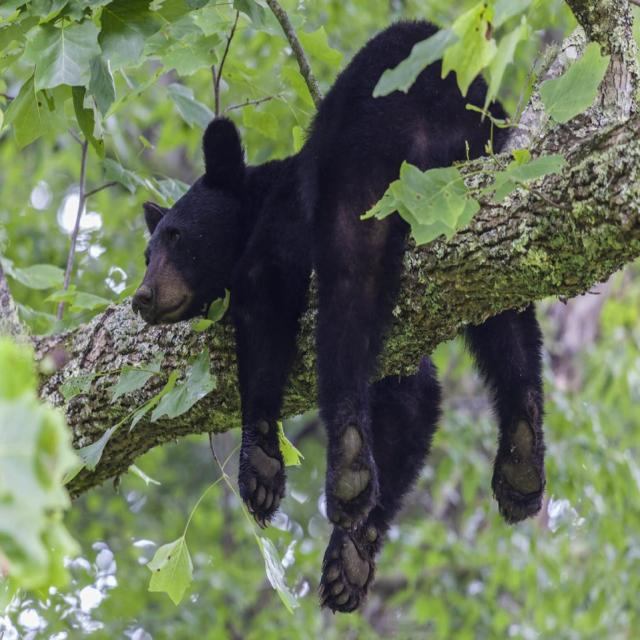bear: (132, 22, 549, 618)
